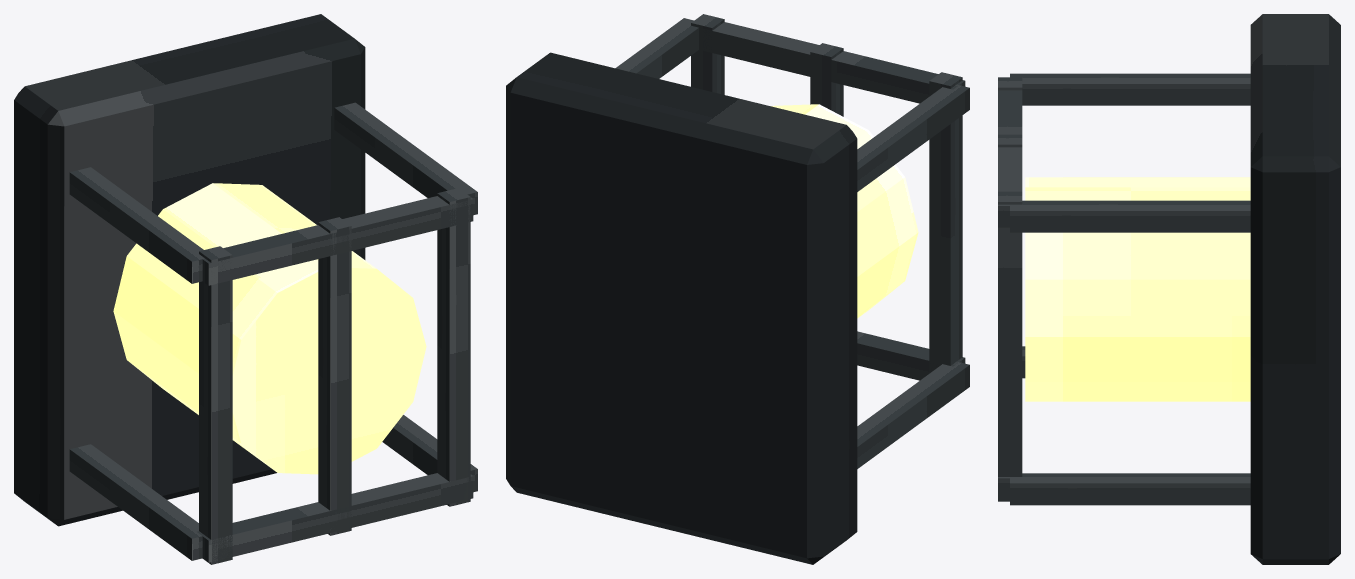
Rendered from sewer_lamp.glb.
3 views of the same model, side by side, from view 1: azimuth 30°, elevation 25°; view 2: azimuth 150°, elevation 25°; view 3: azimuth 270°, elevation 25° (orthographic).
Visible parts, largest first — view 1: BackPlate, Glass, CageV0, CageV1, CageV2, CageH1, CageH0, CageArm1L, CageArm0L, CageArm1R, CageArm0R; view 2: BackPlate, CageV0, Glass, CageH1, CageArm0L, CageArm1L, CageH0, CageArm1R, CageV1, CageV2; view 3: BackPlate, Glass, CageArm0R, CageArm1R, CageArm1L, CageV2, CageH1.
Boxes of the visible parts, x1=… form: BackPlate: x1=14, y1=14, x2=365, y2=526; Glass: x1=113, y1=183, x2=426, y2=474; CageV0: x1=199, y1=246, x2=232, y2=564; CageV1: x1=318, y1=217, x2=351, y2=535; CageV2: x1=437, y1=188, x2=470, y2=506; CageH1: x1=202, y1=196, x2=473, y2=285; CageH0: x1=197, y1=473, x2=473, y2=562; CageArm1L: x1=69, y1=167, x2=204, y2=283; CageArm0L: x1=69, y1=444, x2=202, y2=560; CageArm1R: x1=334, y1=102, x2=477, y2=215; CageArm0R: x1=382, y1=415, x2=477, y2=492; BackPlate: x1=506, y1=52, x2=857, y2=564; CageV0: x1=929, y1=72, x2=962, y2=373; Glass: x1=770, y1=104, x2=918, y2=318; CageH1: x1=690, y1=22, x2=965, y2=103; CageArm0L: x1=857, y1=361, x2=969, y2=468; CageArm1L: x1=857, y1=84, x2=969, y2=191; CageH0: x1=857, y1=331, x2=965, y2=380; CageArm1R: x1=615, y1=18, x2=698, y2=78; CageV1: x1=810, y1=43, x2=843, y2=116; CageV2: x1=691, y1=14, x2=724, y2=94; BackPlate: x1=1250, y1=14, x2=1340, y2=564; Glass: x1=1025, y1=177, x2=1250, y2=401; CageArm0R: x1=1010, y1=473, x2=1250, y2=505; CageArm1R: x1=1010, y1=200, x2=1250, y2=232; CageArm1L: x1=1010, y1=73, x2=1250, y2=105; CageV2: x1=998, y1=191, x2=1022, y2=501; CageH1: x1=998, y1=90, x2=1022, y2=227.
Bounding box in the file's own units: 0.24 × 0.3 × 0.228.
3 materials, 3 textured.
